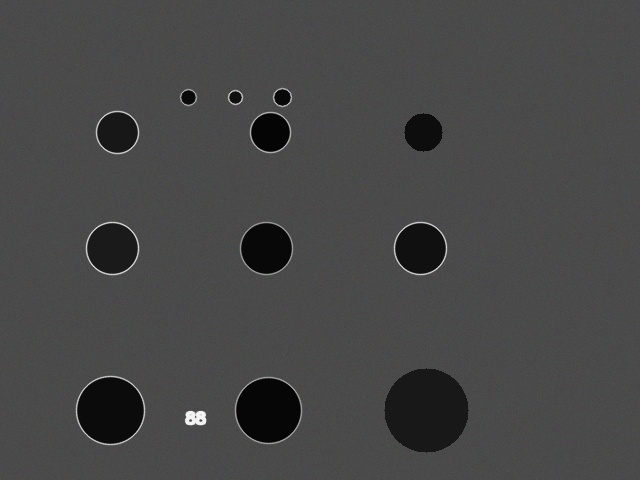hole: (384, 368, 468, 452), (76, 376, 144, 444), (235, 377, 301, 443), (86, 222, 138, 274), (240, 222, 292, 274), (394, 222, 446, 274), (96, 111, 138, 153), (250, 112, 290, 152), (404, 113, 442, 151), (273, 88, 291, 106), (180, 89, 196, 105), (228, 90, 242, 104)
